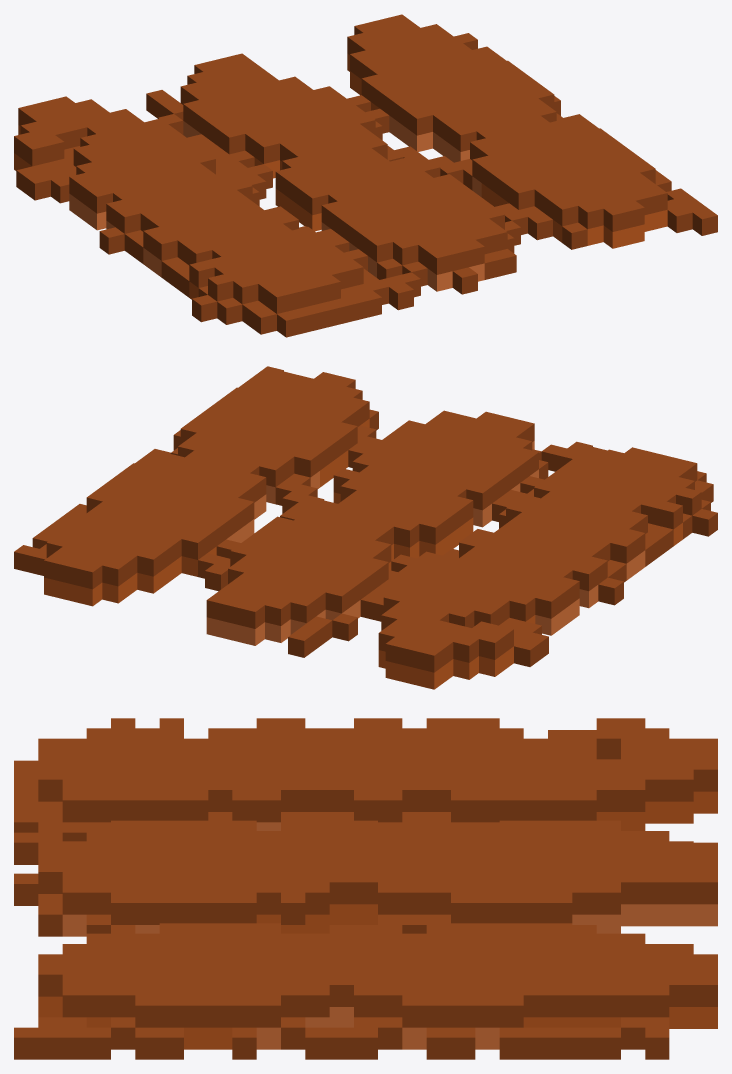
Rendered from crops_terrain.obj.
3 views of the same model, one above another, from view 1: azimuth 30°, elevation 25°; view 2: azimuth 150°, elevation 25°; view 3: azimuth 270°, elevation 25° (orthographic). The views are drawn at different scales.
Size of the model in its own units: 3 by 0.2 by 2.9.
Materials: 1 (1 with a texture image).
